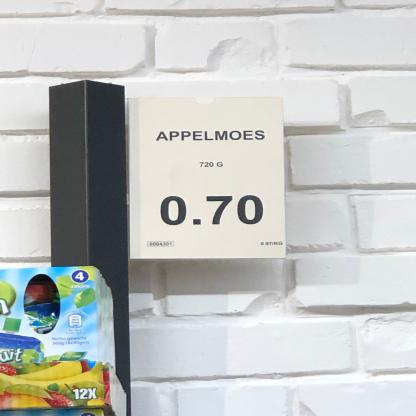prtg: (129, 99, 286, 260)
